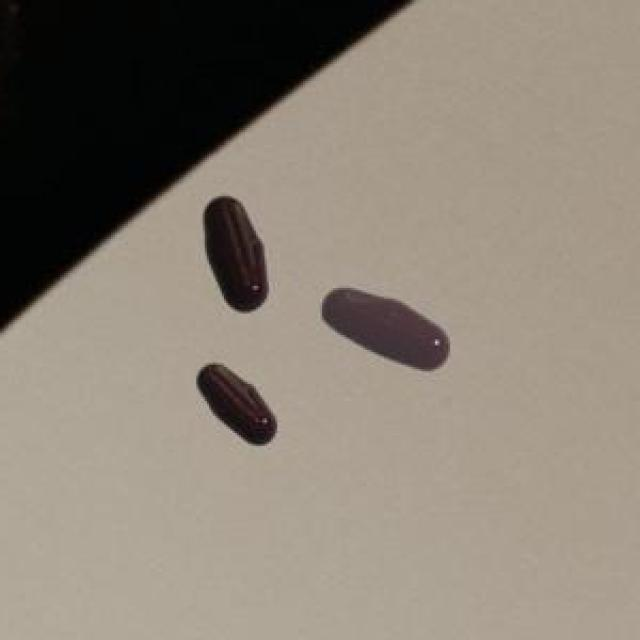DayZinc: (313, 266, 470, 388), (186, 184, 290, 325), (182, 359, 299, 473)
